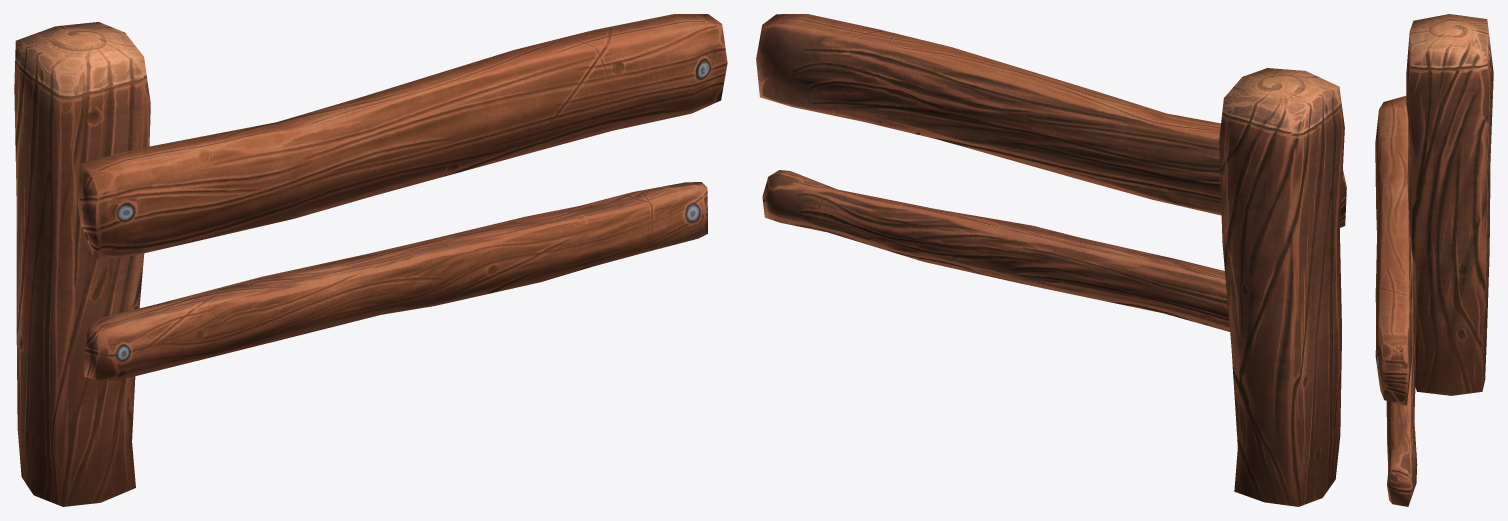
File: fence3.obj
3 renders of one model, left to right at view 1: azimuth 30°, elevation 25°; view 2: azimuth 150°, elevation 25°; view 3: azimuth 270°, elevation 25°, orthographic. The views are drawn at different scales.
Parts seen in each view (by area): view 1: STFence3_Plano.013; view 2: STFence3_Plano.013; view 3: STFence3_Plano.013.
Part boxes in pixels (bbox=[...]): STFence3_Plano.013: bbox=[14, 14, 727, 506]; STFence3_Plano.013: bbox=[756, 14, 1346, 506]; STFence3_Plano.013: bbox=[1375, 14, 1493, 506].
Bounding box in the file's own units: 1.47 × 0.9703 × 0.2929.
